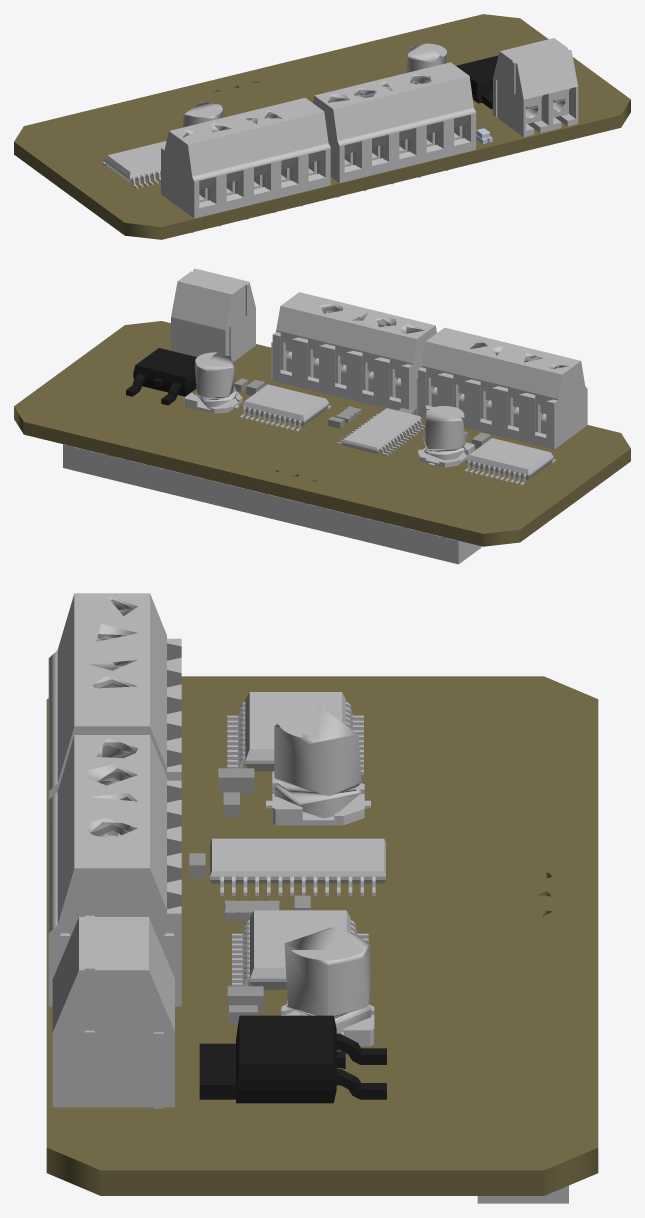
The model's file is ada-4280.glb.
3 views of the same model, one above another, from view 1: azimuth 30°, elevation 25°; view 2: azimuth 150°, elevation 25°; view 3: azimuth 270°, elevation 25° (orthographic). The views are drawn at different scales.
Parts seen in each view (by area): view 1: 0.5833333333333334_0.5833333333333334_0.5833333333333334_0.8, 0.16666666666666666_0.16666666666666666_0.08333333333333333_, 0_0_0_0; view 2: 0.5833333333333334_0.5833333333333334_0.5833333333333334_0.8, 0.16666666666666666_0.16666666666666666_0.08333333333333333_, 0_0_0_0, 0.3333333333333333_0.3333333333333333_0.3333333333333333_0; view 3: 0.16666666666666666_0.16666666666666666_0.08333333333333333_, 0.5833333333333334_0.5833333333333334_0.5833333333333334_0.8, 0_0_0_0, 0.3333333333333333_0.3333333333333333_0.3333333333333333_0.
Part boxes in pixels (x1,y1,x2,y2): 0.5833333333333334_0.5833333333333334_0.5833333333333334_0.8: (102,38,578,232); 0.16666666666666666_0.16666666666666666_0.08333333333333333_: (14,14,630,239); 0_0_0_0: (456,55,498,109); 0.5833333333333334_0.5833333333333334_0.5833333333333334_0.8: (63,268,587,564); 0.16666666666666666_0.16666666666666666_0.08333333333333333_: (14,321,630,546); 0_0_0_0: (126,348,196,405); 0.3333333333333333_0.3333333333333333_0.3333333333333333_0: (234,378,490,448); 0.16666666666666666_0.16666666666666666_0.08333333333333333_: (46,676,598,1195); 0.5833333333333334_0.5833333333333334_0.5833333333333334_0.8: (48,593,568,1203); 0_0_0_0: (199,1015,386,1103); 0.3333333333333333_0.3333333333333333_0.3333333333333333_0: (189,768,310,1025).
Bounding box in the file's own units: 6.5 × 1.38 × 3.07.
